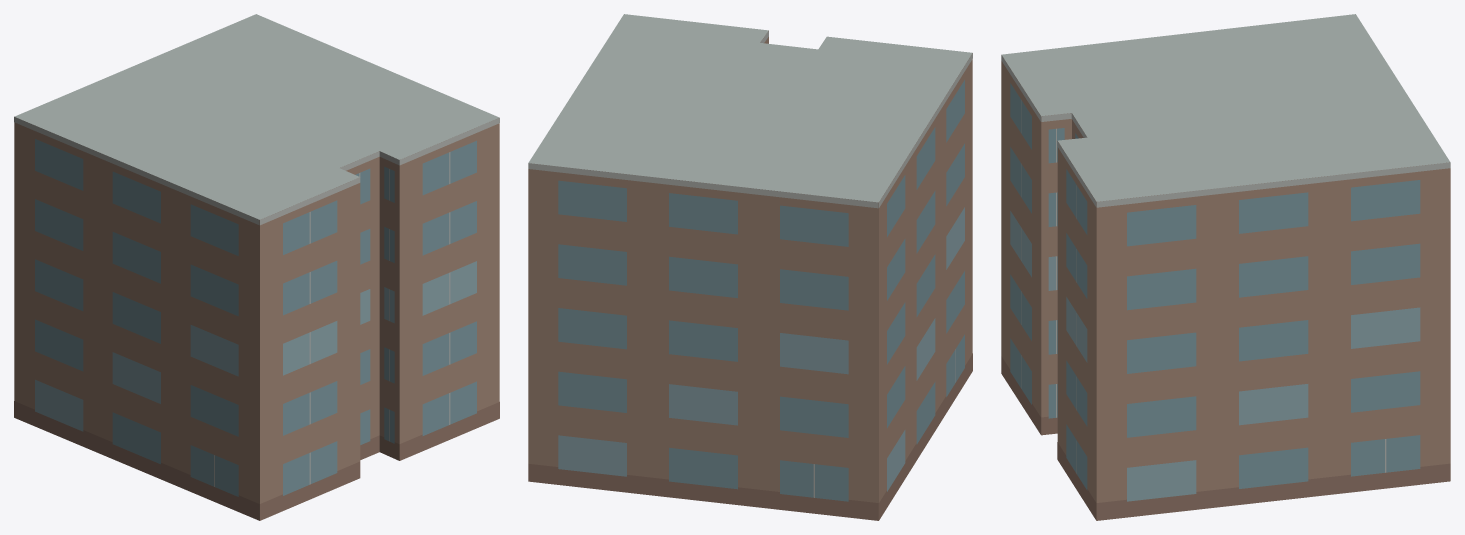
The model's file is survey-upis-32869541.glb.
3 renders of one model, left to right at view 1: azimuth 30°, elevation 25°; view 2: azimuth 150°, elevation 25°; view 3: azimuth 270°, elevation 25°, orthographic. The views are drawn at different scales.
Visible parts, largest first — view 1: survey-upis-32869541.tmp; view 2: survey-upis-32869541.tmp; view 3: survey-upis-32869541.tmp.
Part boxes in pixels (x1,y1,x2,y2): survey-upis-32869541.tmp: (14,14,499,520); survey-upis-32869541.tmp: (528,14,972,520); survey-upis-32869541.tmp: (1001,14,1450,520).
Bounding box in the file's own units: 16.68 × 13.2 × 16.85.
